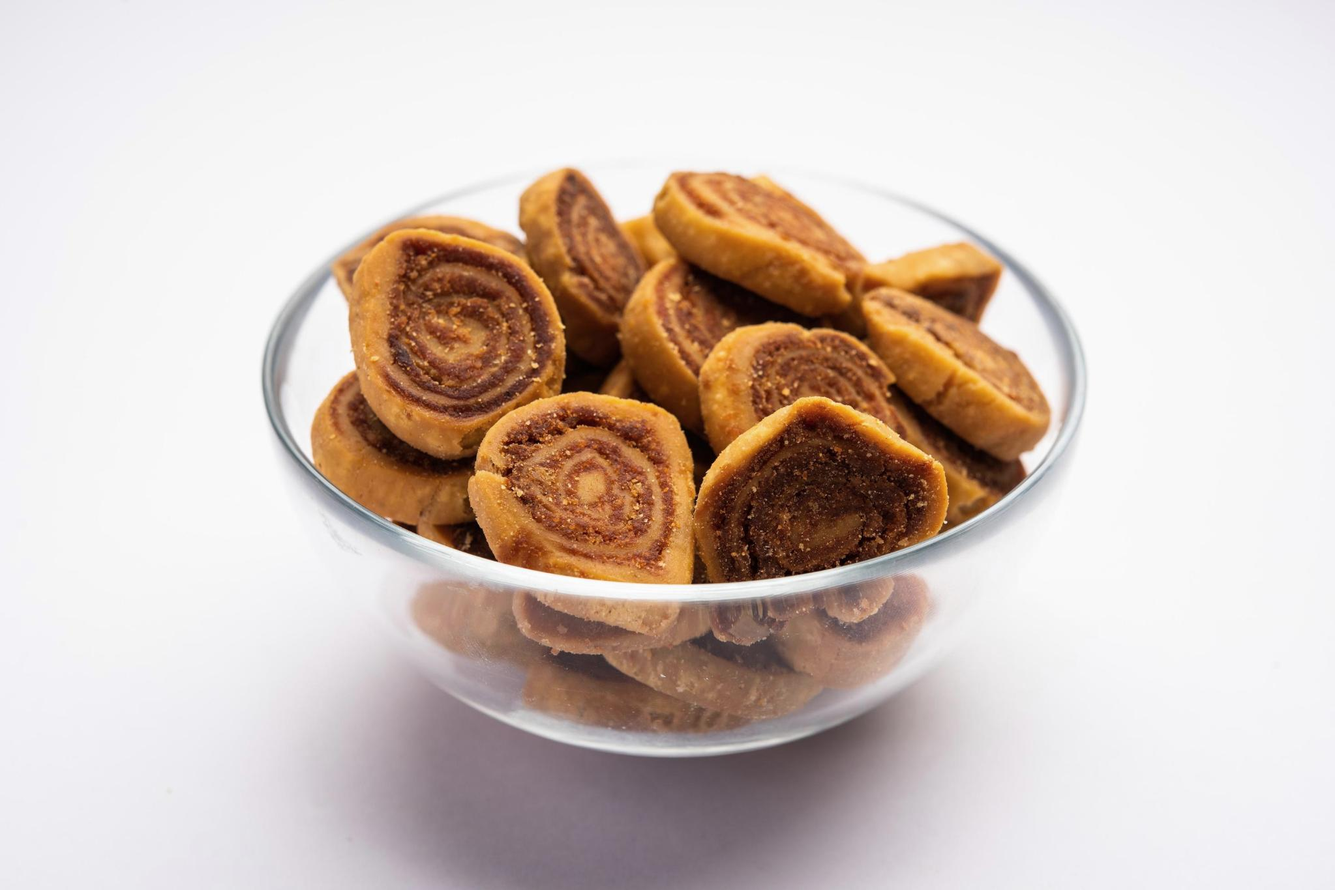bhakarwadi: (262, 161, 1044, 578)
